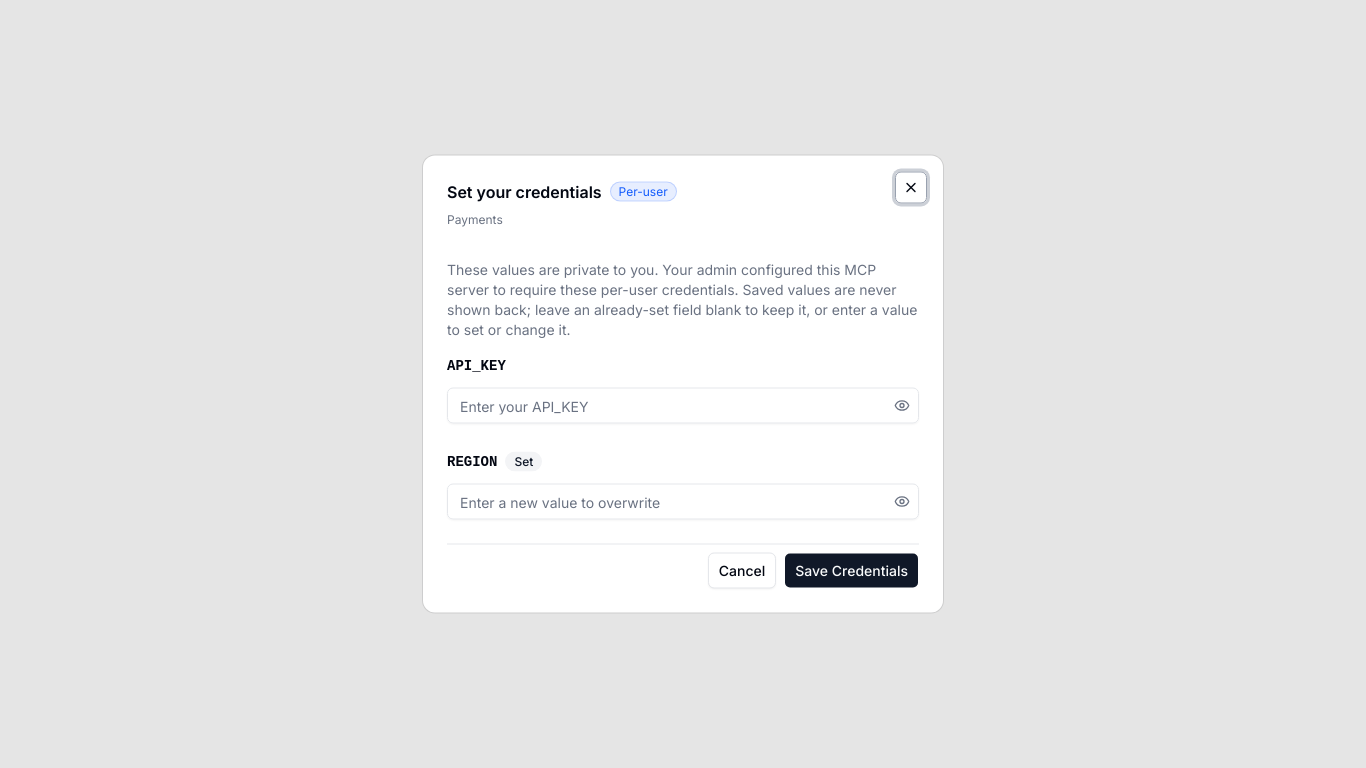
it: UserEnvVarsModal › blocks the submit and shows the required message when an unset field is empty
Expected: the password field labelled "API_KEY" is shown, [448,388,890,424]
Click the button "Save Credentials" at point(852, 570), box [784,552,919,588]
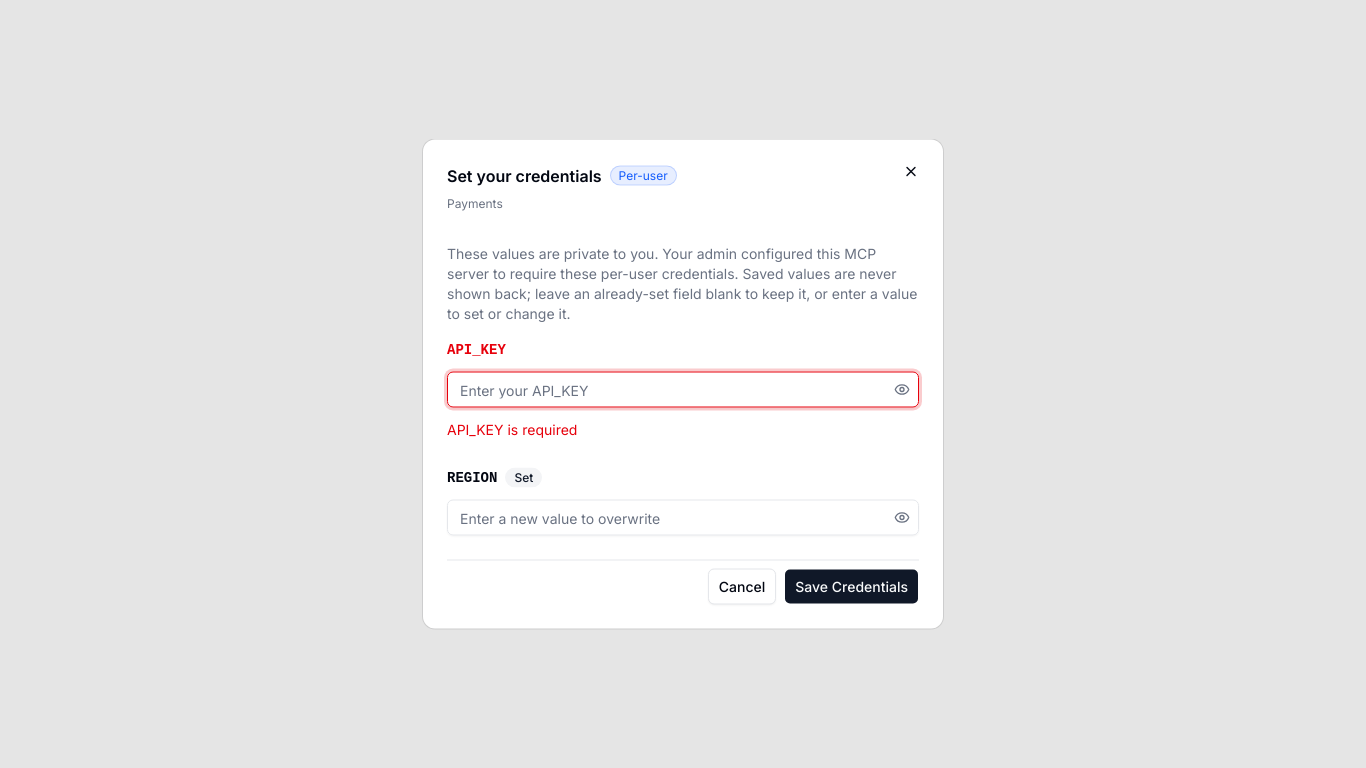
Expected: the text "API_KEY is required" is shown, [447,420,577,438]
